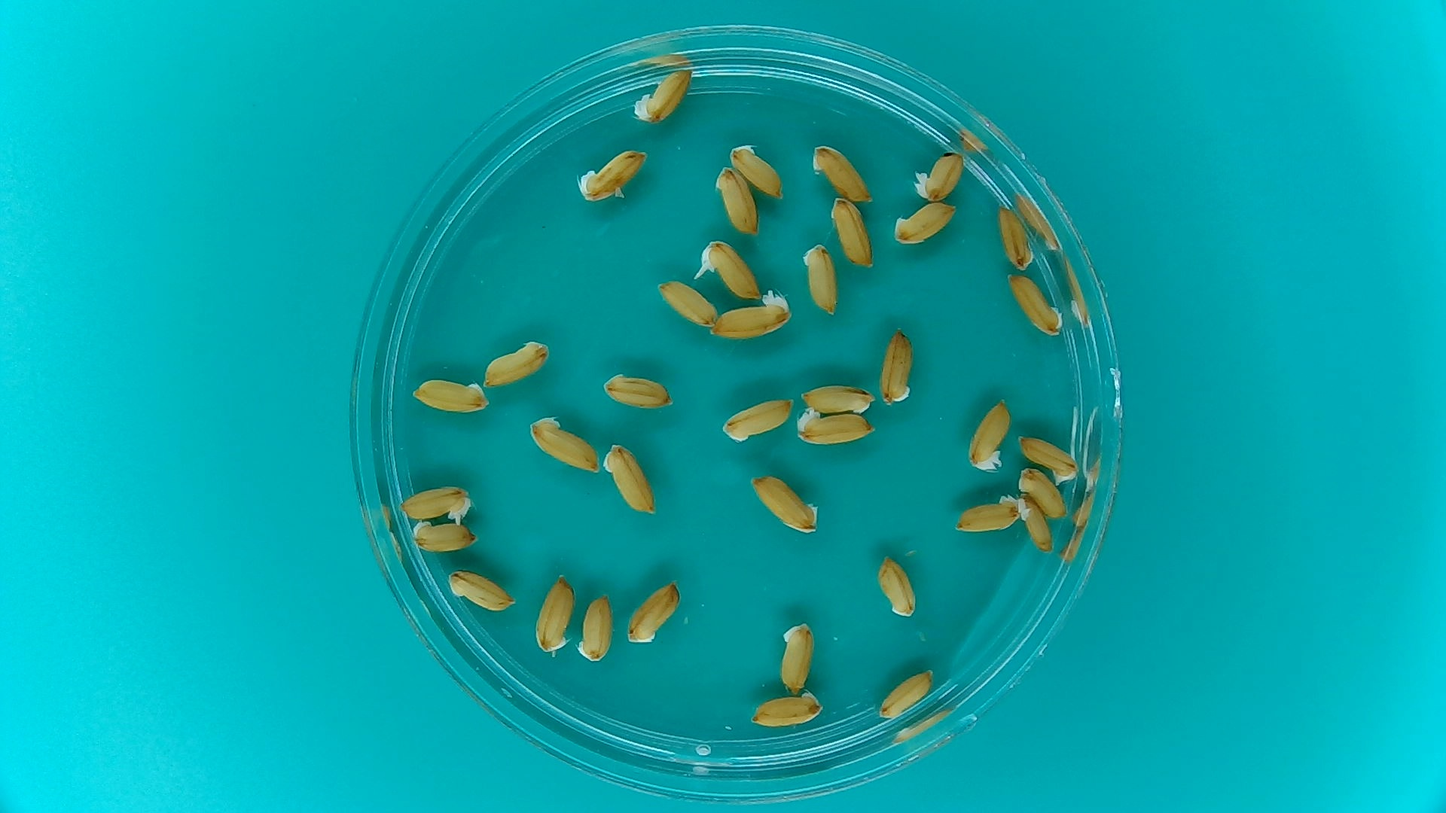no: (746, 468, 822, 537), (526, 411, 602, 477), (599, 440, 659, 519), (573, 145, 651, 205), (952, 482, 1032, 539), (624, 574, 684, 646), (808, 142, 875, 205), (1002, 269, 1064, 337), (963, 393, 1014, 473), (480, 334, 553, 389), (630, 65, 696, 125), (719, 395, 796, 445), (532, 568, 576, 655), (791, 406, 880, 449), (727, 139, 787, 202), (828, 194, 877, 270), (875, 665, 938, 723), (712, 163, 761, 237), (407, 373, 490, 416), (871, 550, 921, 621), (1015, 433, 1081, 486), (597, 369, 676, 412), (775, 618, 819, 695), (653, 277, 718, 329), (891, 198, 961, 245), (445, 567, 518, 612), (747, 688, 827, 729), (877, 324, 917, 406), (800, 240, 841, 318), (993, 201, 1036, 274), (913, 148, 969, 202), (1016, 464, 1069, 520), (575, 591, 614, 663), (798, 382, 876, 416), (407, 517, 480, 553), (1015, 492, 1054, 553)
yes: (694, 236, 764, 301), (710, 290, 792, 342), (392, 482, 475, 523)
